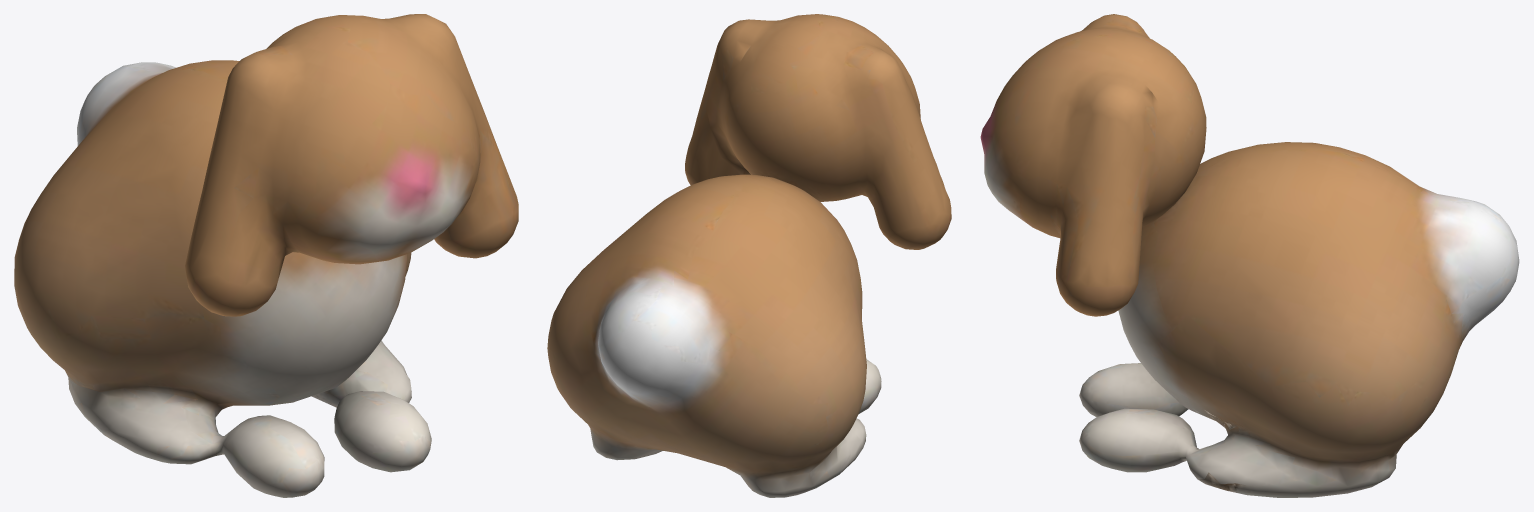
Rendered from animal_lop_rabbit.glb.
3 views of the same model, side by side, from view 1: azimuth 30°, elevation 25°; view 2: azimuth 150°, elevation 25°; view 3: azimuth 270°, elevation 25° (orthographic). The views are drawn at different scales.
Visible parts, largest first — view 1: animal_lop_rabbit, head; view 2: animal_lop_rabbit, head; view 3: animal_lop_rabbit, head.
Part boxes in pixels (x1,y1,x2,y2): animal_lop_rabbit: [14, 60, 431, 497]; head: [185, 14, 518, 316]; animal_lop_rabbit: [547, 174, 881, 497]; head: [685, 14, 951, 249]; animal_lop_rabbit: [1079, 142, 1519, 497]; head: [980, 14, 1206, 316].
Bounding box in the file's own units: 0.1801 × 0.2196 × 0.2606.
Materials: 1 (1 with a texture image).
